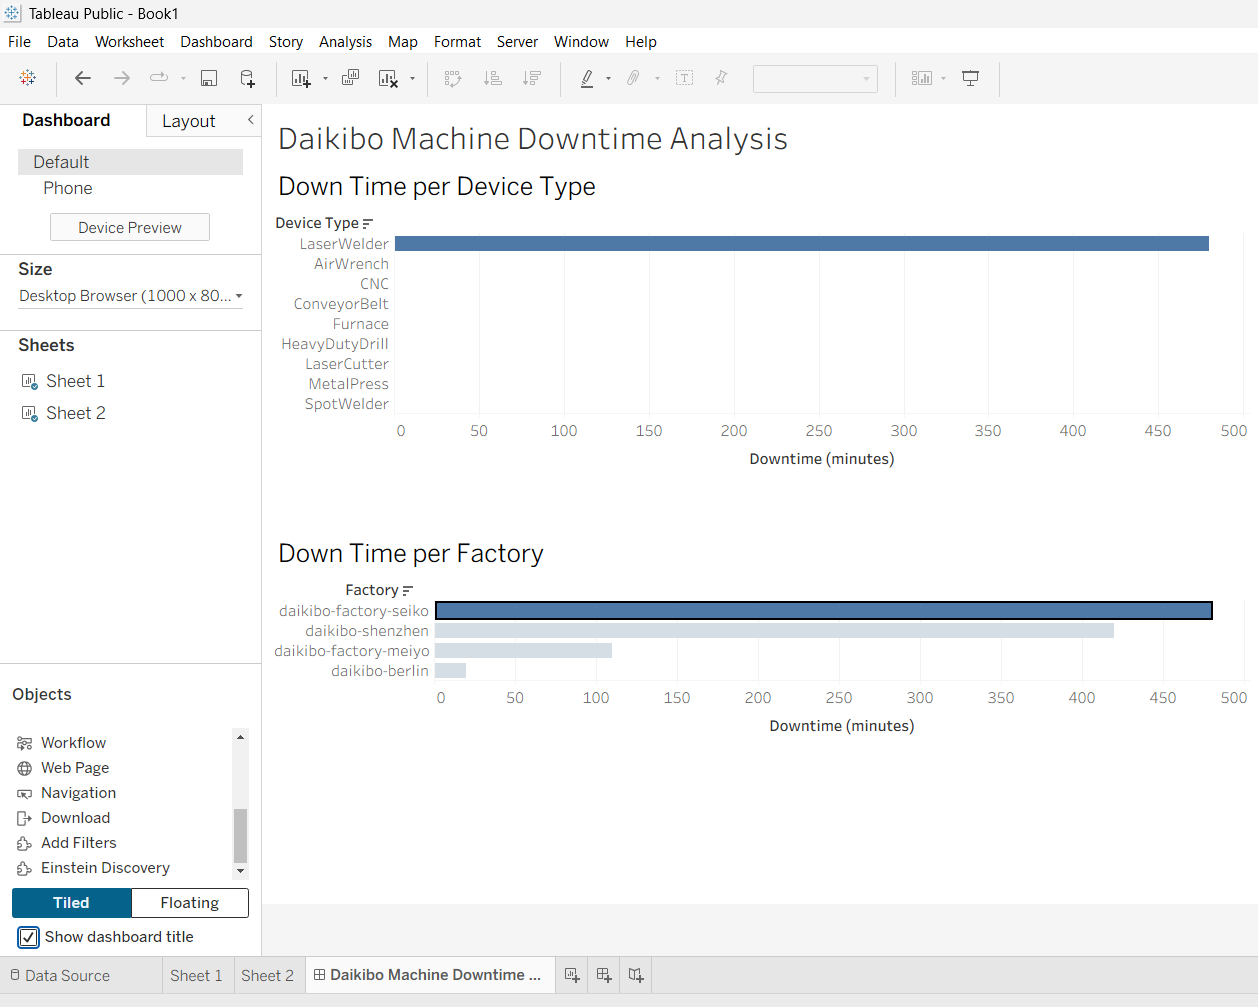

This screenshot's page, from the dashboard's own definition file:
{"tool":"tableau","page":{"name":"Daikibo Machine Downtime Analysis","canvas":[1000,800],"ordinal":0},"visuals":[{"type":"title","box":[8,8,984,50]},{"type":"worksheet","title":"Sheet 2","mark":"Automatic","rows":["deviceType"],"cols":["Calculation_0121279969783808"],"box":[8,58,984,367]},{"type":"worksheet","title":"Sheet 1","mark":"Automatic","rows":["factory"],"cols":["Calculation_0121279969783808"],"box":[8,425,984,367]}]}

Visuals, with their boxes on the page's 1000x800 design canvas (x1, y1, x2, y2). These are canvas units, not pixel positions in the 1258x1007 screenshot, which may show the page scaled, cropped or inside an application window:
title: 8 8 992 58
"Sheet 2" worksheet: 8 58 992 425
"Sheet 1" worksheet: 8 425 992 792
